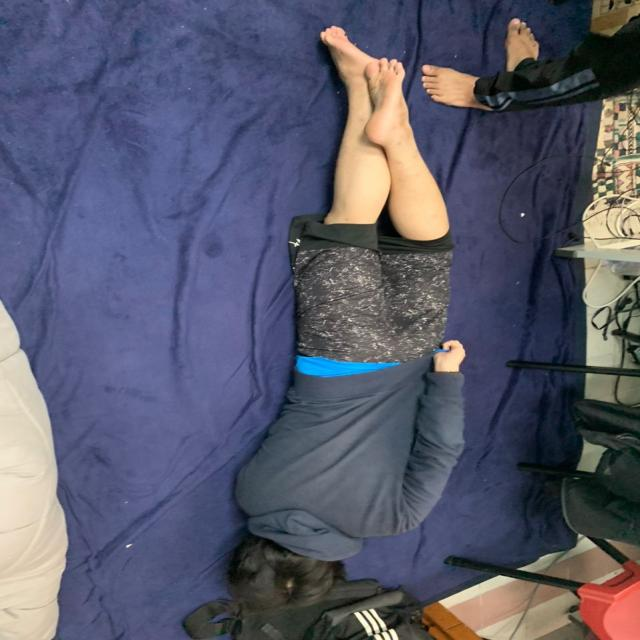Fall-Detected: (194, 24, 472, 621)
